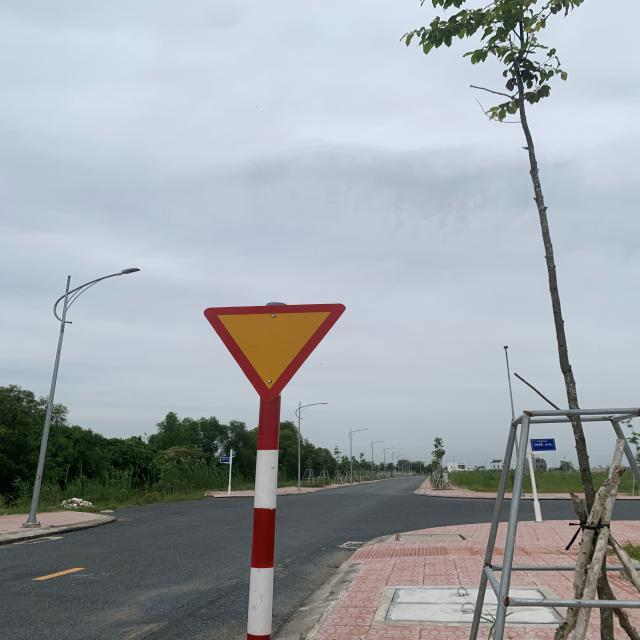Gioi_Han_Toc_Do_25: (204, 303, 345, 402)
